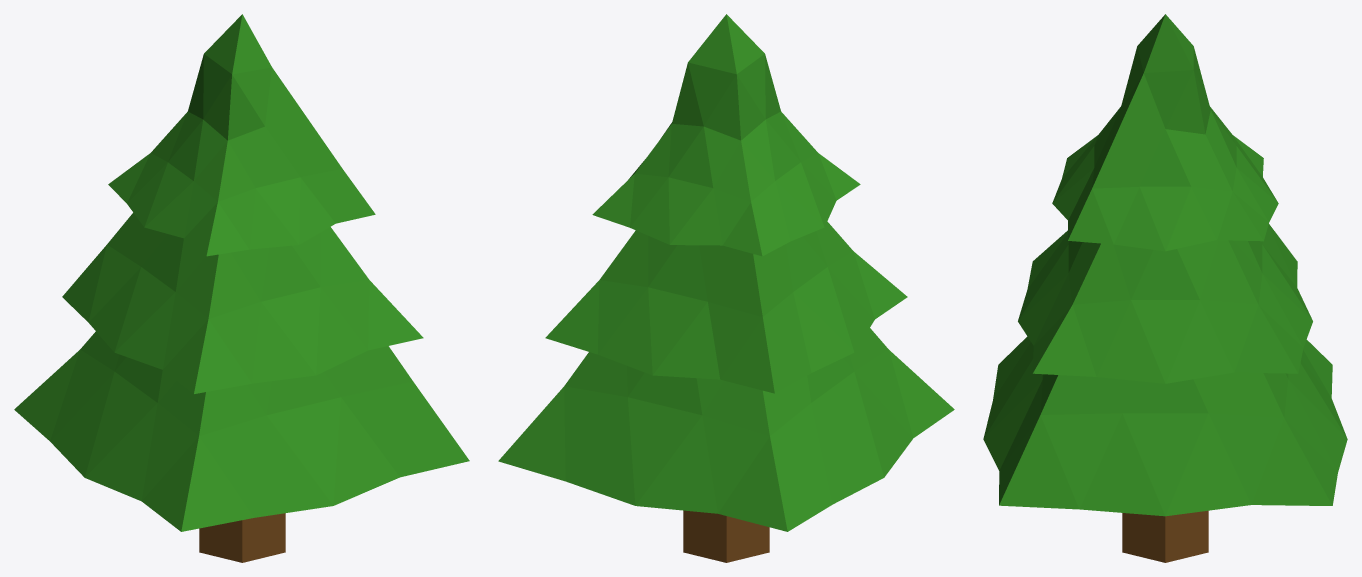
File: Low-Poly-Evergreen.fbx
The picture shows the model from 3 angles, left to right: view 1: azimuth 30°, elevation 25°; view 2: azimuth 150°, elevation 25°; view 3: azimuth 270°, elevation 25°; orthographic projection.
Visible parts, largest first — view 1: Pyramid_0, Pyramid_1, Pyramid_2, Extrude_NURBS; view 2: Pyramid_0, Pyramid_1, Pyramid_2, Extrude_NURBS; view 3: Pyramid_0, Pyramid_1, Pyramid_2, Extrude_NURBS.
Part boxes in pixels (left/top/right/bottom): Pyramid_0: left=14, top=331, right=469, bottom=531; Pyramid_1: left=62, top=212, right=423, bottom=393; Pyramid_2: left=108, top=14, right=375, bottom=256; Extrude_NURBS: left=199, top=513, right=285, bottom=562; Pyramid_0: left=498, top=328, right=954, bottom=531; Pyramid_1: left=545, top=221, right=907, bottom=393; Pyramid_2: left=592, top=14, right=860, bottom=256; Extrude_NURBS: left=683, top=510, right=769, bottom=562; Pyramid_0: left=983, top=336, right=1347, bottom=516; Pyramid_1: left=1018, top=224, right=1312, bottom=383; Pyramid_2: left=1052, top=14, right=1278, bottom=251; Extrude_NURBS: left=1122, top=510, right=1208, bottom=562.
Bounding box in the file's own units: 190 × 305 × 190.
